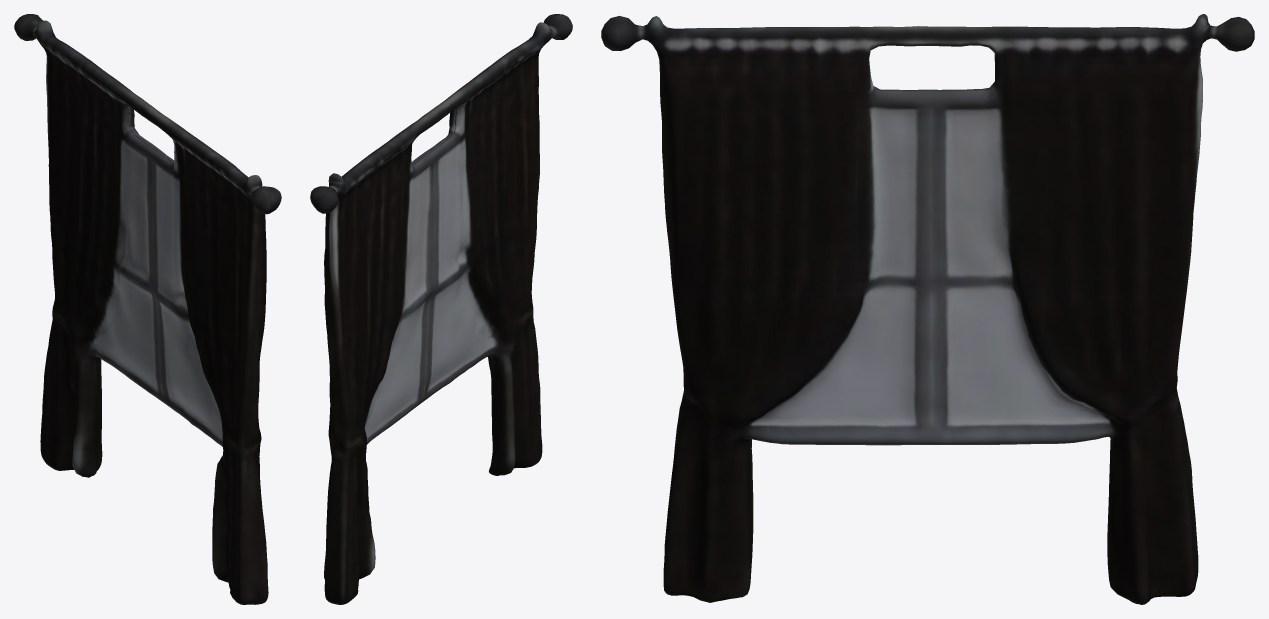
The model's file is ce17103eb7c6_windows_with_rustic.fbx.
3 renders of one model, left to right at view 1: azimuth 30°, elevation 25°; view 2: azimuth 150°, elevation 25°; view 3: azimuth 270°, elevation 25°, orthographic. The views are drawn at different scales.
Visible parts, largest first — view 1: mesh; view 2: mesh; view 3: mesh.
Part boxes in pixels (bbox=[...]): mesh: bbox=[14, 14, 281, 604]; mesh: bbox=[310, 14, 572, 604]; mesh: bbox=[601, 14, 1254, 604].
Bounding box in the file's own units: 11.87 × 96.67 × 99.86.
